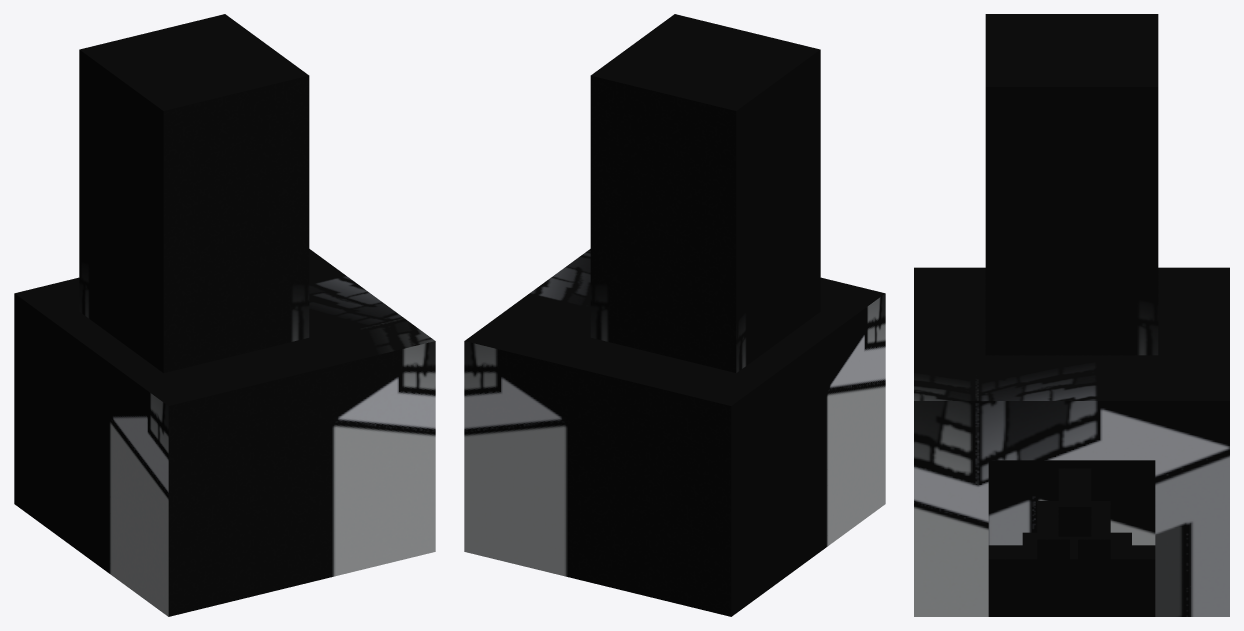
File: FirePlace.fbx
The picture shows the model from 3 angles, left to right: view 1: azimuth 30°, elevation 25°; view 2: azimuth 150°, elevation 25°; view 3: azimuth 270°, elevation 25°; orthographic projection. The views are drawn at different scales.
Visible parts, largest first — view 1: FirePlace; view 2: FirePlace; view 3: FirePlace.
Boxes of the visible parts, left/top/right/bottom form: FirePlace: left=14, top=14, right=435, bottom=616; FirePlace: left=464, top=14, right=885, bottom=616; FirePlace: left=914, top=14, right=1229, bottom=616.
Size of the model in its own units: 200 by 339 by 200.
